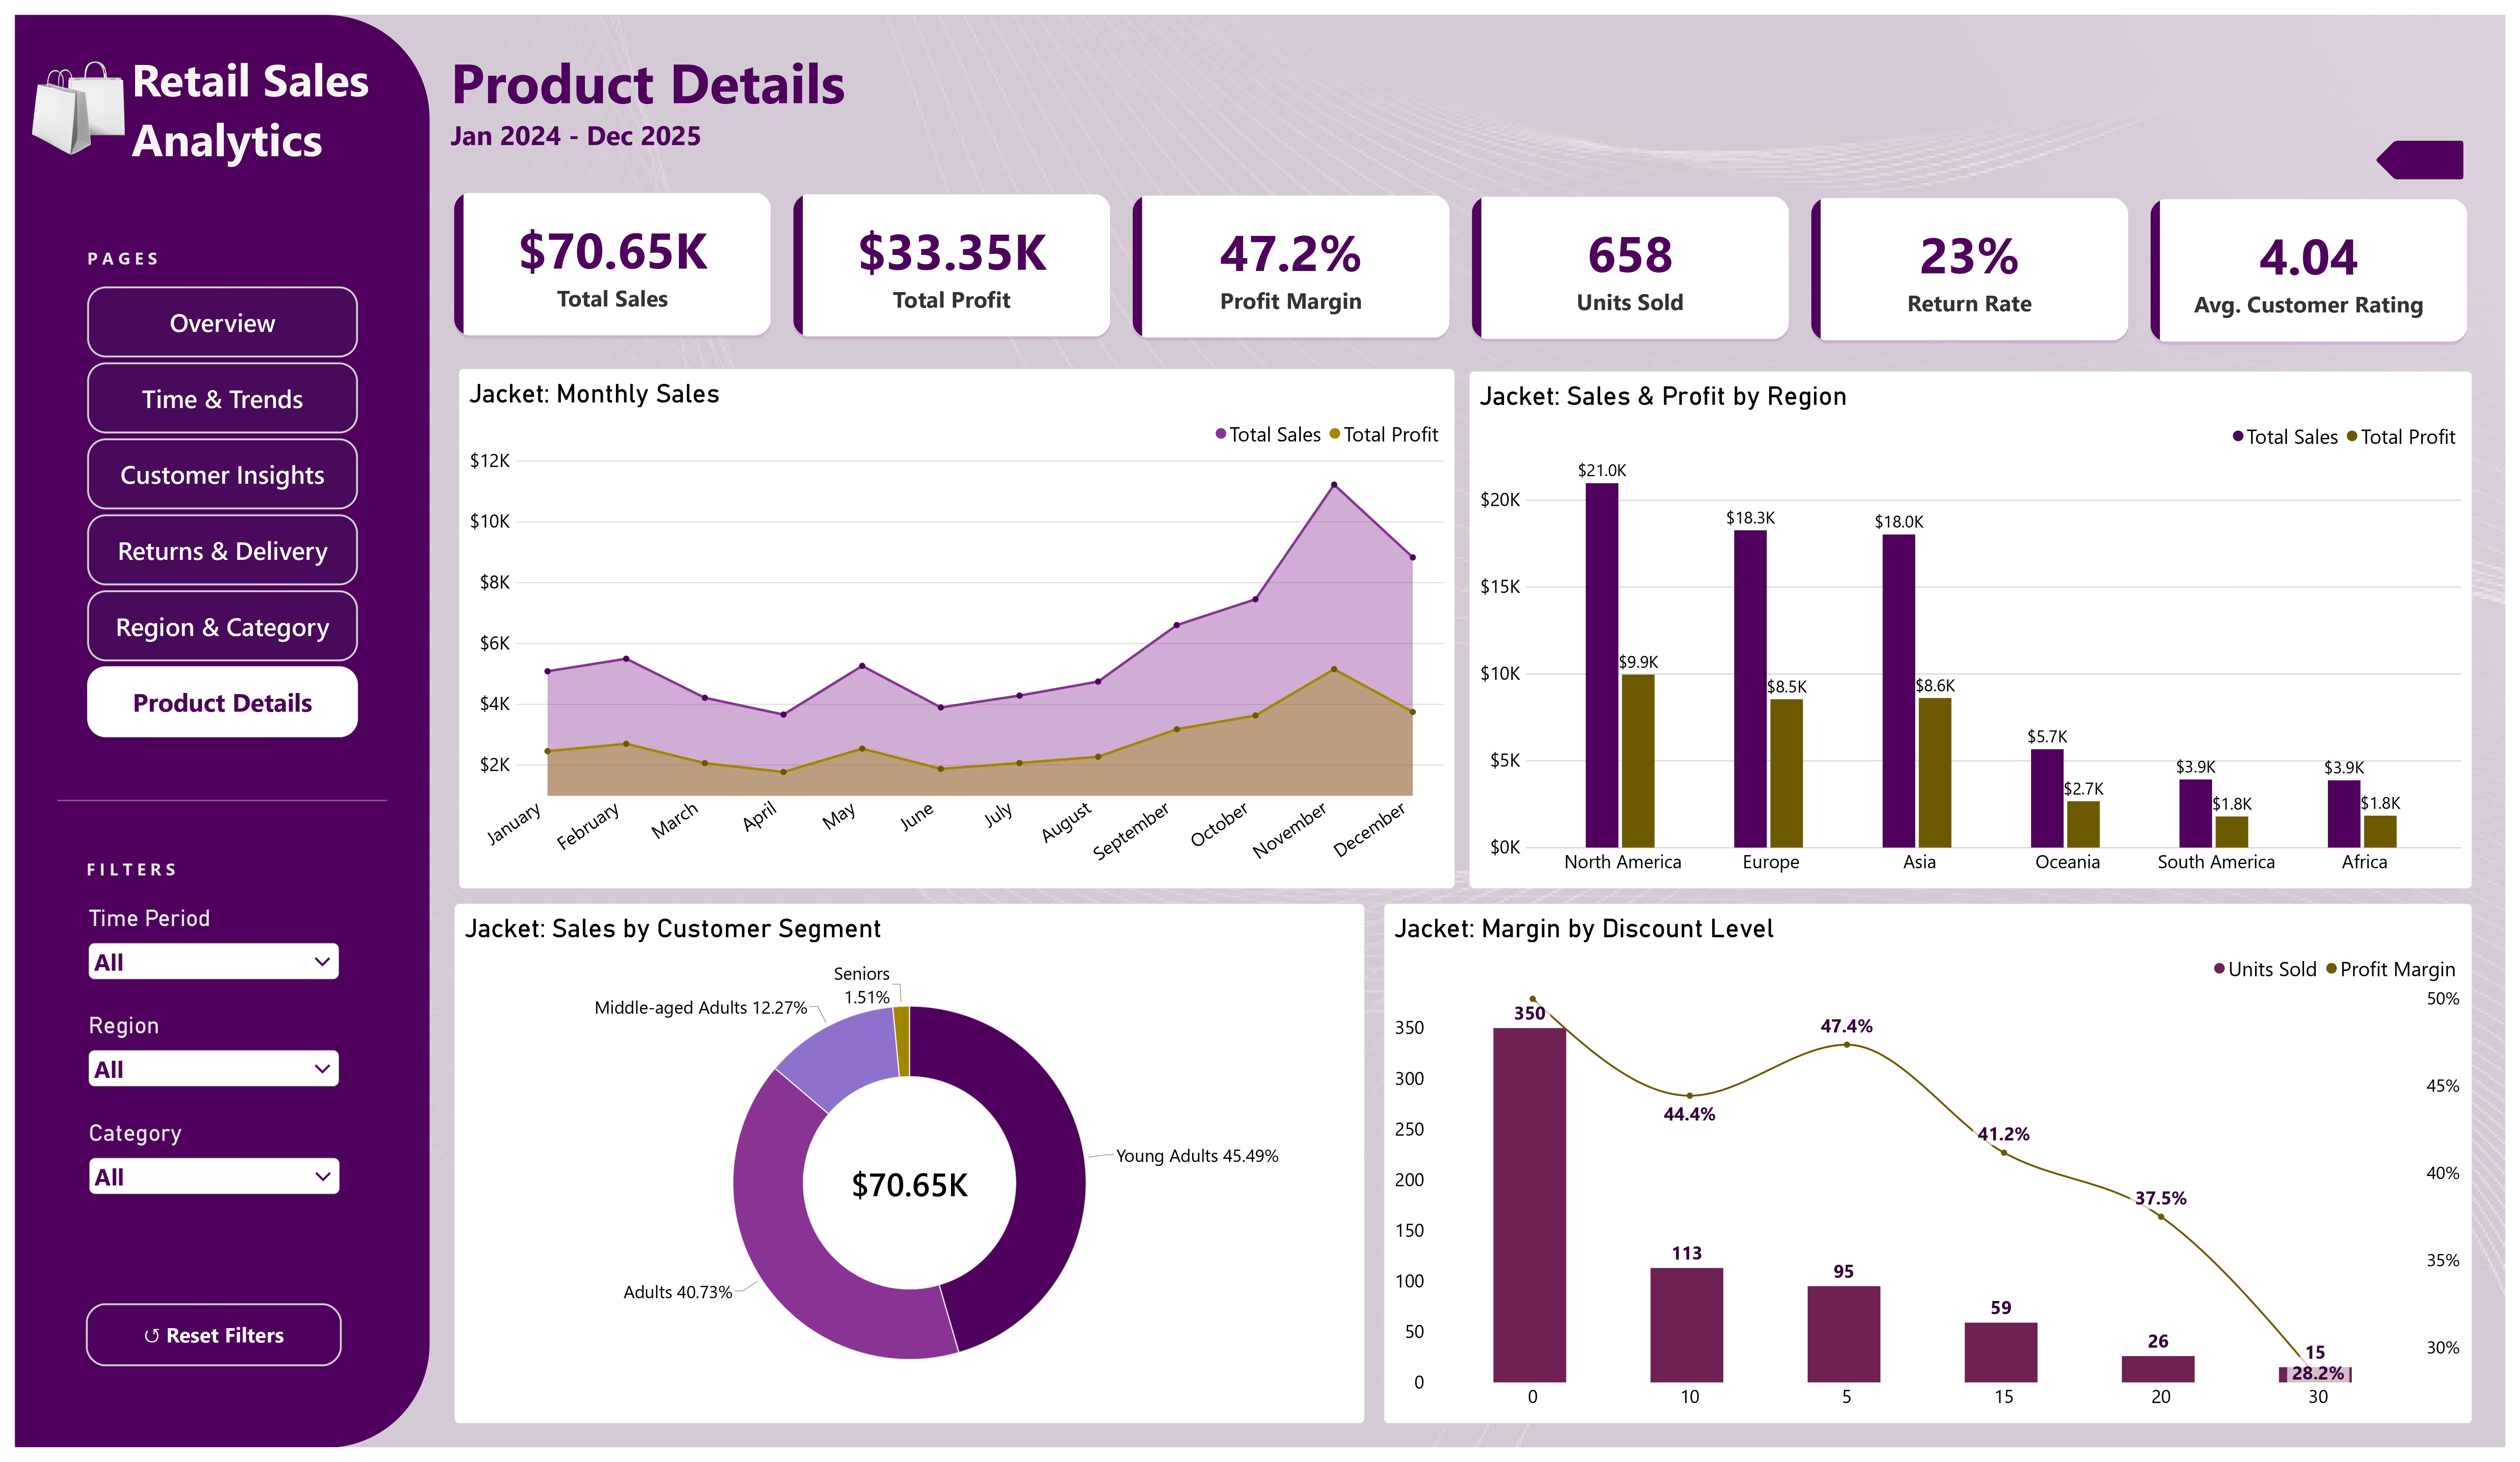

The page's visual inventory and layout, read from the dashboard file:
{"tool":"powerbi","page":{"name":"Product Details","canvas":[4000,2300],"ordinal":5},"visuals":[{"type":"shape","box":[0,0,666.3,2300.8],"z":0},{"type":"textbox","box":[186.7,53.3,419.4,215.6],"z":1000},{"type":"image","box":[0,35.3,203.8,227.3],"z":2000},{"type":"pageNavigator","box":[115.6,435.6,435.6,724.4],"z":3000},{"type":"textbox","box":[700,46.7,1236.7,143.3],"z":4000},{"type":"textbox","box":[700,163.3,420,70],"z":5000},{"type":"textbox","box":[116,372,132,40],"z":6000},{"type":"shape","box":[67.5,1150,530,222.5],"z":7000},{"type":"textbox","box":[115,1352.5,145,40],"z":8000},{"type":"listSlicer","title":"Time Period","fields":{"Values":["Date.Year"]},"box":[101.8,1413.6,435,160],"z":9000},{"type":"listSlicer","title":"Region","fields":{"Values":["Table1.region"]},"box":[102.2,1586.2,435,160],"z":10000},{"type":"listSlicer","title":"Category","fields":{"Values":["Table1.product_category"]},"box":[102.5,1758.8,435,160],"z":11000},{"type":"actionButton","box":[113.8,2068.8,411.2,101.2],"z":12000},{"type":"clusteredColumnChart","fields":{"Category":["Table1.region"],"Y":["Table1.Total Sales","Table1.Total Profit"]},"box":[2336.1,572.3,1610.9,831],"z":13000},{"type":"lineClusteredColumnComboChart","fields":{"Category":["Table1.discount_pct"],"Y":["Table1.Total Quantity Sold"],"Y2":["Table1.Profit Margin"]},"box":[2198.9,1426.7,1748.1,834.9],"z":14000},{"type":"areaChart","fields":{"Category":["Date.Month"],"Y":["Table1.Total Sales","Table1.Total Profit"]},"box":[713.4,568.3,1599.2,834.9],"z":15000},{"type":"actionButton","box":[3791.7,201.7,141.1,62.7],"z":16000},{"type":"cardVisual","fields":{"Data":["Table1.Total Sales"]},"box":[700,280,520,240],"z":17000},{"type":"cardVisual","fields":{"Data":["Table1.Total Profit"]},"box":[1245,282,520,240],"z":18000},{"type":"cardVisual","title":"Average Order Value","fields":{"Data":["Table1.Total Quantity Sold"]},"box":[2335,286,520,240],"z":19000},{"type":"cardVisual","fields":{"Data":["Table1.Return Rate"]},"box":[2880,288,520,240],"z":20000},{"type":"cardVisual","fields":{"Data":["Table1.Profit Margin"]},"box":[1790,284,520,240],"z":21000},{"type":"cardVisual","fields":{"Data":["Table1.Avg. Customer Rating"]},"box":[3425,290,520,240],"z":22000},{"type":"donutChart","fields":{"Category":["Table1.customer_age_group"],"Y":["Table1.Total Sales"]},"box":[705.5,1426.7,1462,834.9],"z":23000}]}

Visuals, with their boxes on the page's 4000x2300 design canvas (x1, y1, x2, y2). These are canvas units, not pixel positions in the 2520x1462 screenshot, which may show the page scaled, cropped or inside an application window:
shape: detection(0, 0, 666, 2301)
textbox: detection(187, 53, 606, 269)
image: detection(0, 35, 204, 263)
pageNavigator: detection(116, 436, 551, 1160)
textbox: detection(700, 47, 1937, 190)
textbox: detection(700, 163, 1120, 233)
textbox: detection(116, 372, 248, 412)
shape: detection(68, 1150, 598, 1372)
textbox: detection(115, 1352, 260, 1392)
"Time Period" listSlicer: detection(102, 1414, 537, 1574)
"Region" listSlicer: detection(102, 1586, 537, 1746)
"Category" listSlicer: detection(102, 1759, 538, 1919)
actionButton: detection(114, 2069, 525, 2170)
clusteredColumnChart - Table1.region x Table1.Total Sales: detection(2336, 572, 3947, 1403)
lineClusteredColumnComboChart - Table1.discount_pct x Table1.Total Quantity Sold: detection(2199, 1427, 3947, 2262)
areaChart - Date.Month x Table1.Total Sales: detection(713, 568, 2313, 1403)
actionButton: detection(3792, 202, 3933, 264)
cardVisual - Table1.Total Sales: detection(700, 280, 1220, 520)
cardVisual - Table1.Total Profit: detection(1245, 282, 1765, 522)
"Average Order Value" cardVisual: detection(2335, 286, 2855, 526)
cardVisual - Table1.Return Rate: detection(2880, 288, 3400, 528)
cardVisual - Table1.Profit Margin: detection(1790, 284, 2310, 524)
cardVisual - Table1.Avg. Customer Rating: detection(3425, 290, 3945, 530)
donutChart - Table1.customer_age_group x Table1.Total Sales: detection(706, 1427, 2168, 2262)
